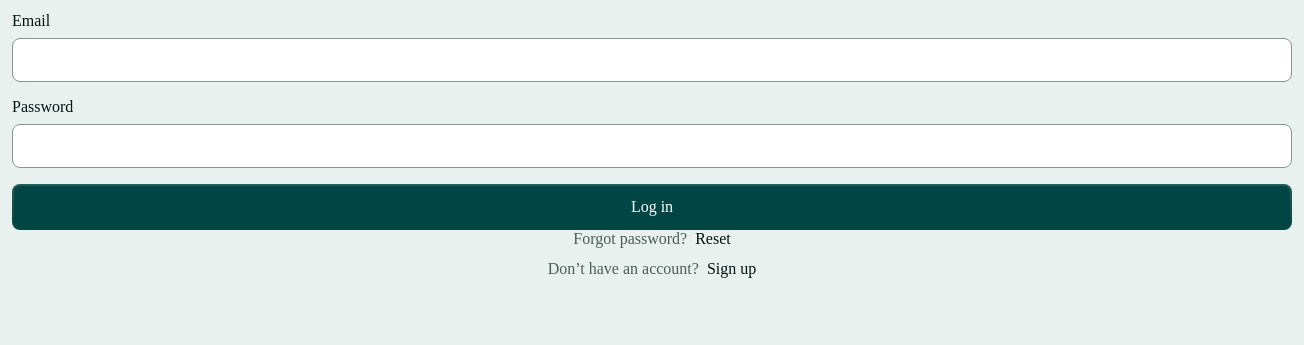
Scenario: Sign in flow › shows a general error message if submitting fails
Type "valid@email.com" into the field labelled "Email" at (652, 60), box [12,38,1292,82]
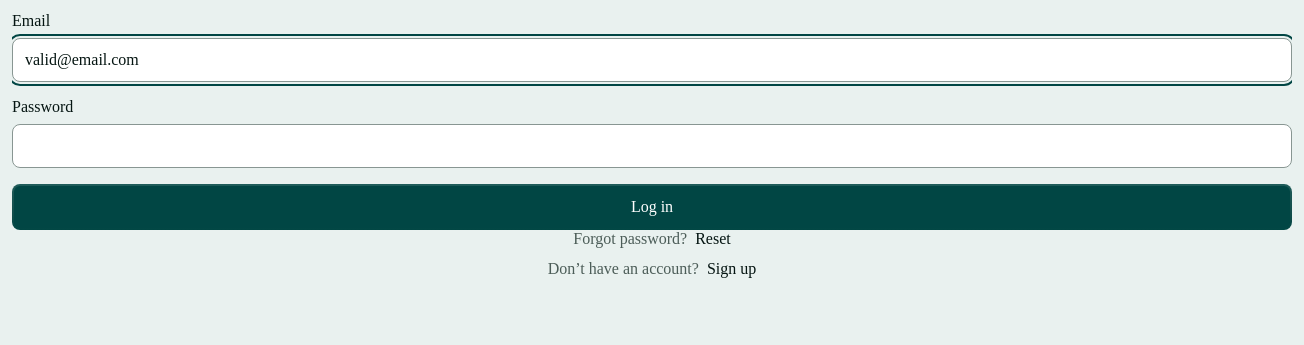
Type "Password123" into the password field labelled "Password" at (652, 146), box [12,124,1292,168]
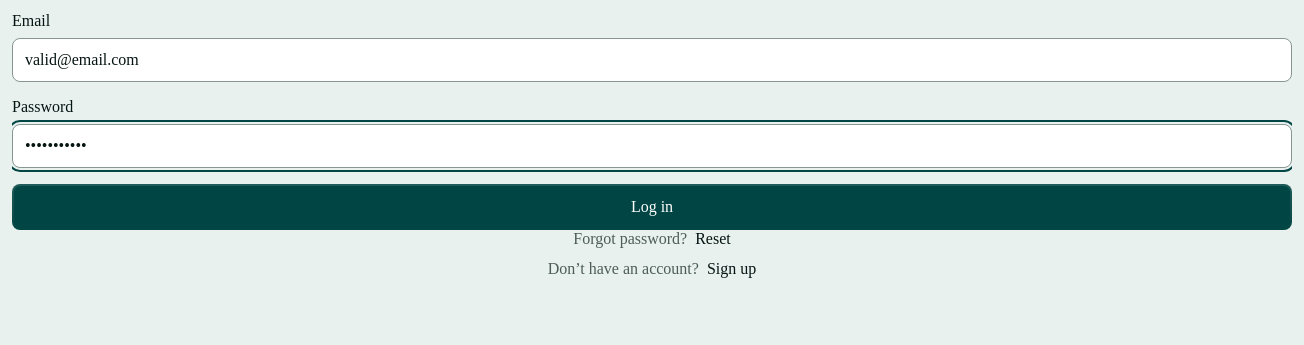
Click the button "Log in" at (652, 207), box [12,184,1292,230]
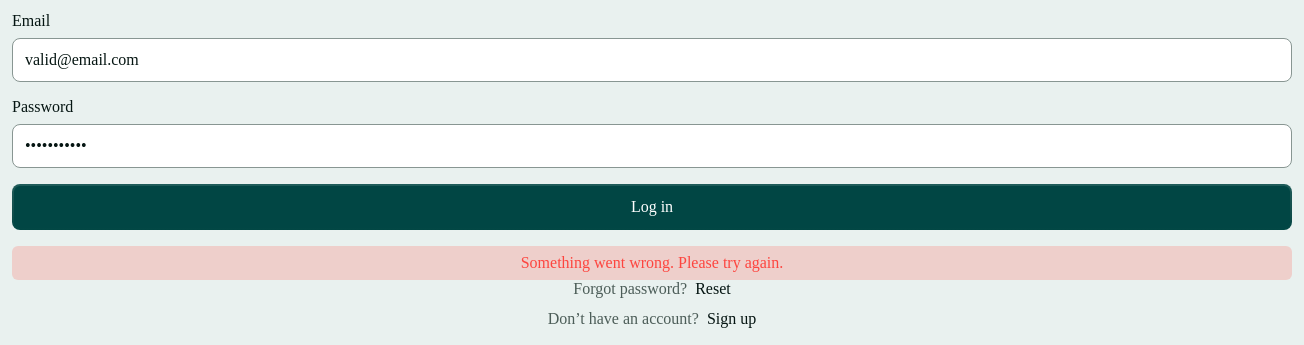
Now the text "Something went wrong. Please try again." is shown, box [12,246,1292,280]
